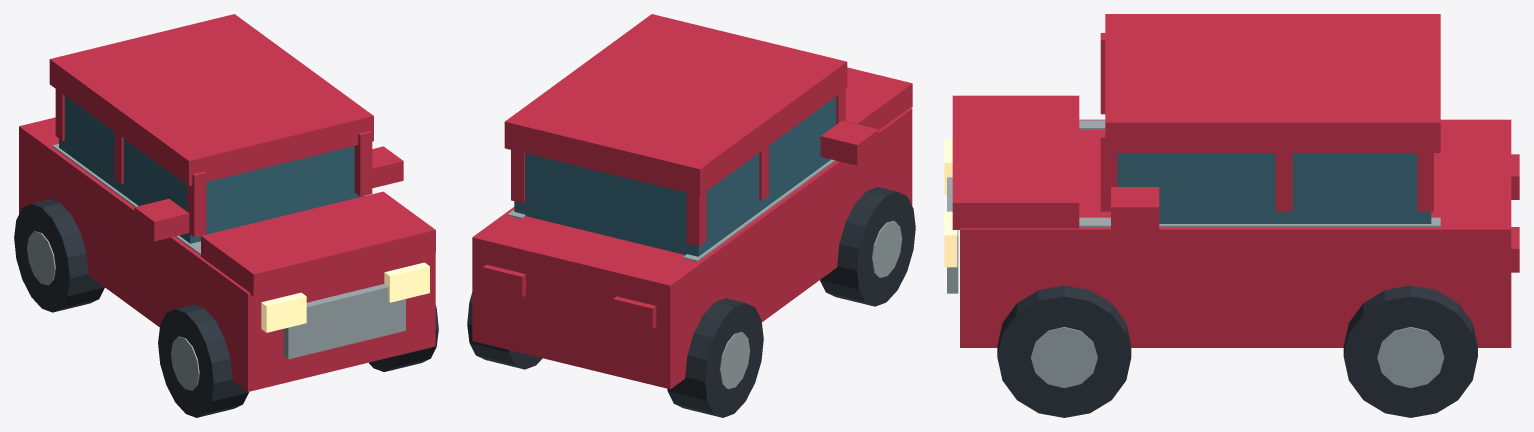
The model's file is traffic-sedan.glb.
3 views of the same model, side by side, from view 1: azimuth 30°, elevation 25°; view 2: azimuth 150°, elevation 25°; view 3: azimuth 270°, elevation 25° (orthographic). The views are drawn at different scales.
Visible parts, largest first — view 1: sedan red, sedan glass, sedan rubber, sedan chrome, sedan glow_lamp; view 2: sedan red, sedan glass, sedan rubber, sedan chrome; view 3: sedan red, sedan rubber, sedan glass, sedan chrome, sedan glow_lamp.
Boxes of the visible parts, x1,y1,x2,y2 form: sedan red: [19, 14, 435, 391]; sedan glass: [59, 95, 363, 243]; sedan rubber: [14, 199, 438, 417]; sedan chrome: [27, 144, 405, 390]; sedan glow_lamp: [261, 262, 429, 332]; sedan red: [472, 14, 912, 389]; sedan glass: [514, 96, 836, 256]; sedan rubber: [467, 187, 915, 417]; sedan chrome: [507, 159, 902, 388]; sedan red: [952, 14, 1519, 347]; sedan rubber: [997, 285, 1477, 417]; sedan glass: [1117, 153, 1431, 223]; sedan chrome: [947, 120, 1444, 388]; sedan glow_lamp: [944, 139, 957, 267].
Size of the model in its own units: 0.93 by 0.84 by 1.55.
